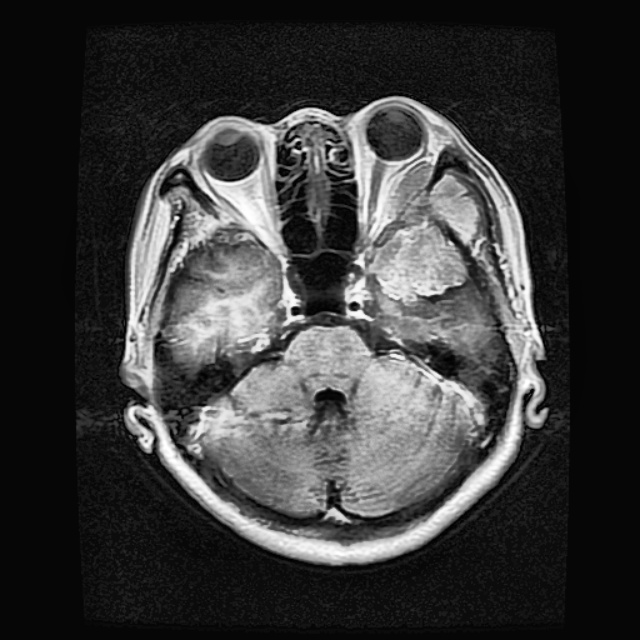Pituitary: (370, 160, 484, 302)
